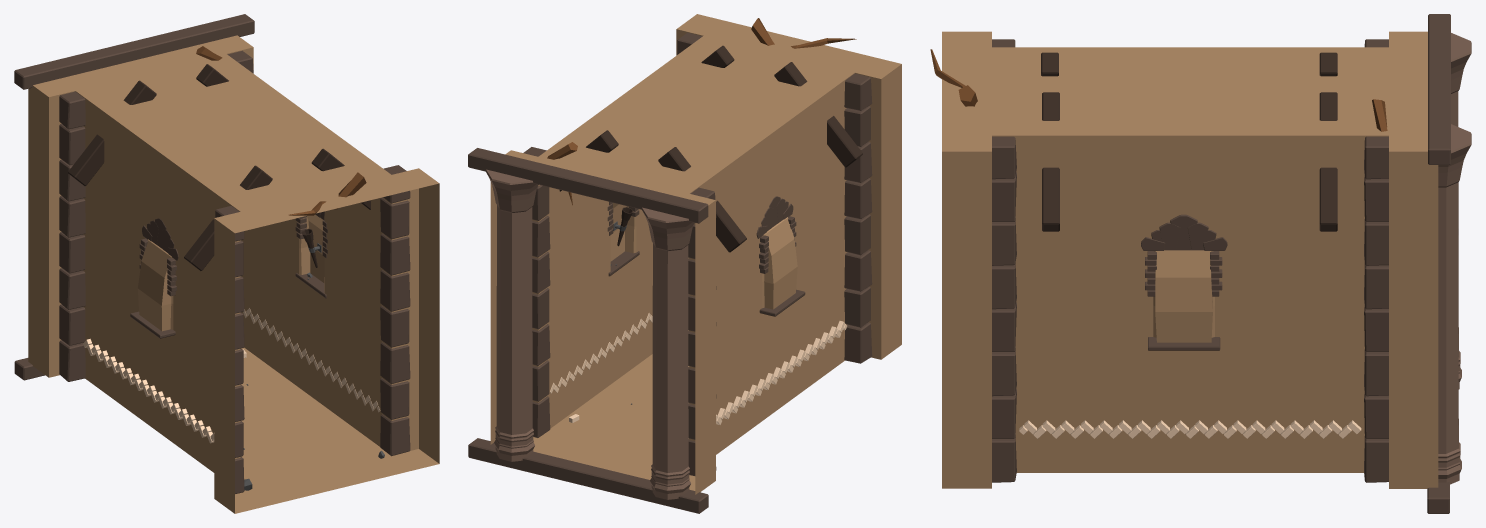
File: tunnel_A 1.fbx
3 renders of one model, left to right at view 1: azimuth 30°, elevation 25°; view 2: azimuth 150°, elevation 25°; view 3: azimuth 270°, elevation 25°, orthographic. The views are drawn at different scales.
Visible parts, largest first — view 1: Tunnel_A; view 2: Tunnel_A; view 3: Tunnel_A.
Boxes of the visible parts, x1,y1,x2,y2 form: Tunnel_A: (14, 14, 439, 513); Tunnel_A: (468, 14, 901, 513); Tunnel_A: (930, 14, 1471, 513).
Size of the model in its own units: 259 by 336 by 436.
